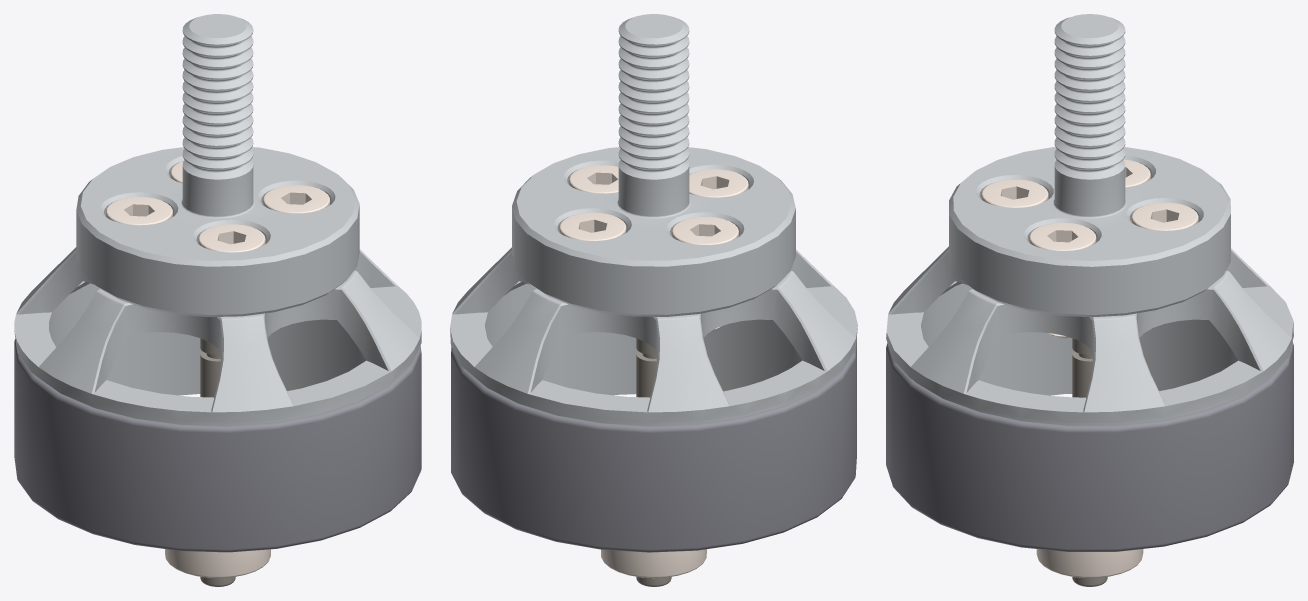
Rendered from rotar.glb.
The picture shows the model from 3 angles, left to right: view 1: azimuth 30°, elevation 25°; view 2: azimuth 150°, elevation 25°; view 3: azimuth 270°, elevation 25°; orthographic projection.
Parts seen in each view (by area): view 1: Prop Adapter; view 2: Prop Adapter; view 3: Prop Adapter.
Boxes of the visible parts, x1,y1,x2,y2 form: Prop Adapter: [14, 14, 421, 586]; Prop Adapter: [450, 14, 857, 586]; Prop Adapter: [886, 14, 1293, 586].
Size of the model in its own units: 0.023 by 0.0345 by 0.023.
